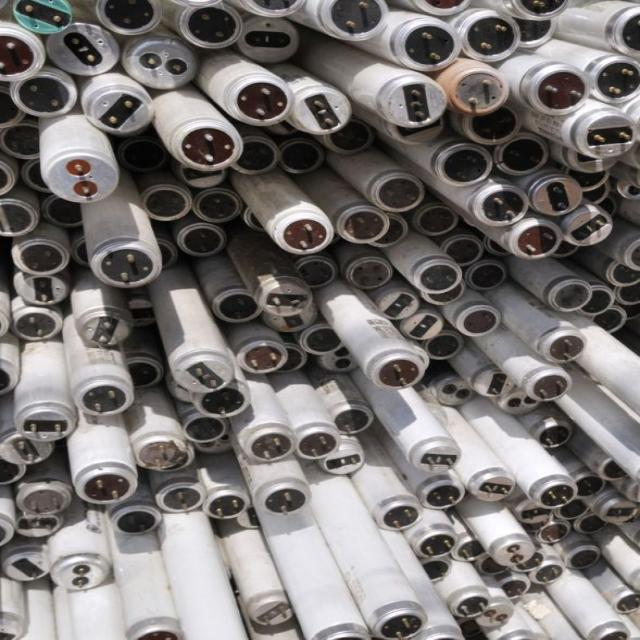electronic: (0, 0, 639, 639), (37, 113, 121, 203)
